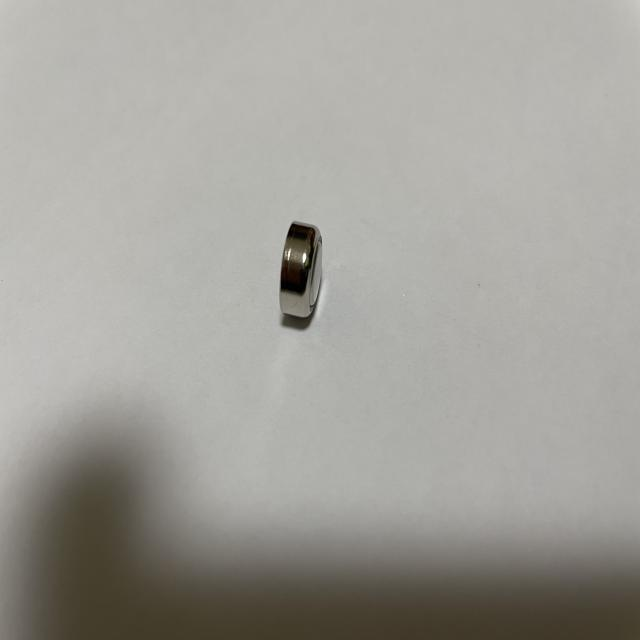COIN: (279, 219, 325, 325)
